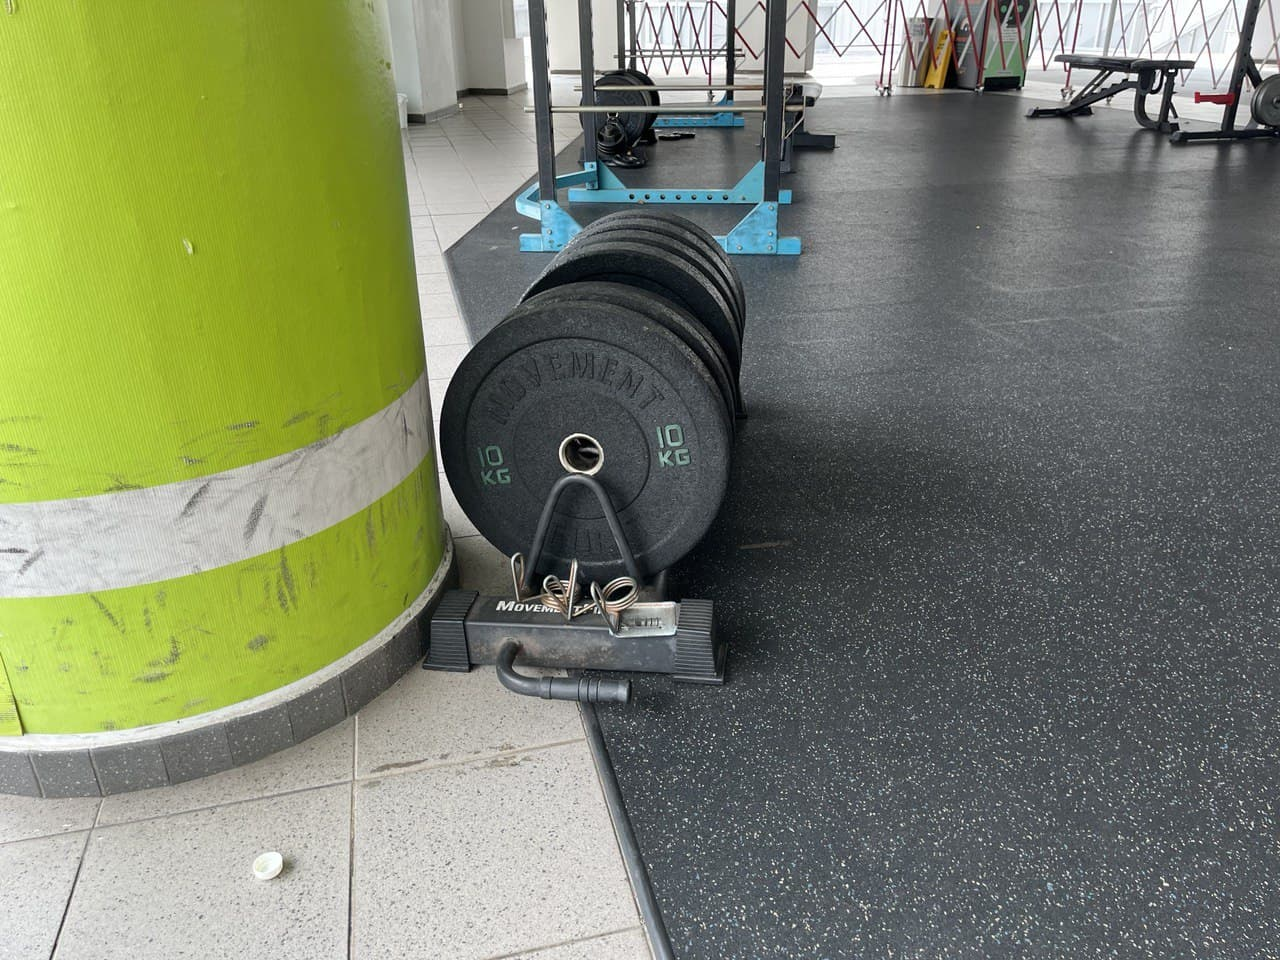weights: (439, 204, 751, 590), (429, 295, 749, 600)
